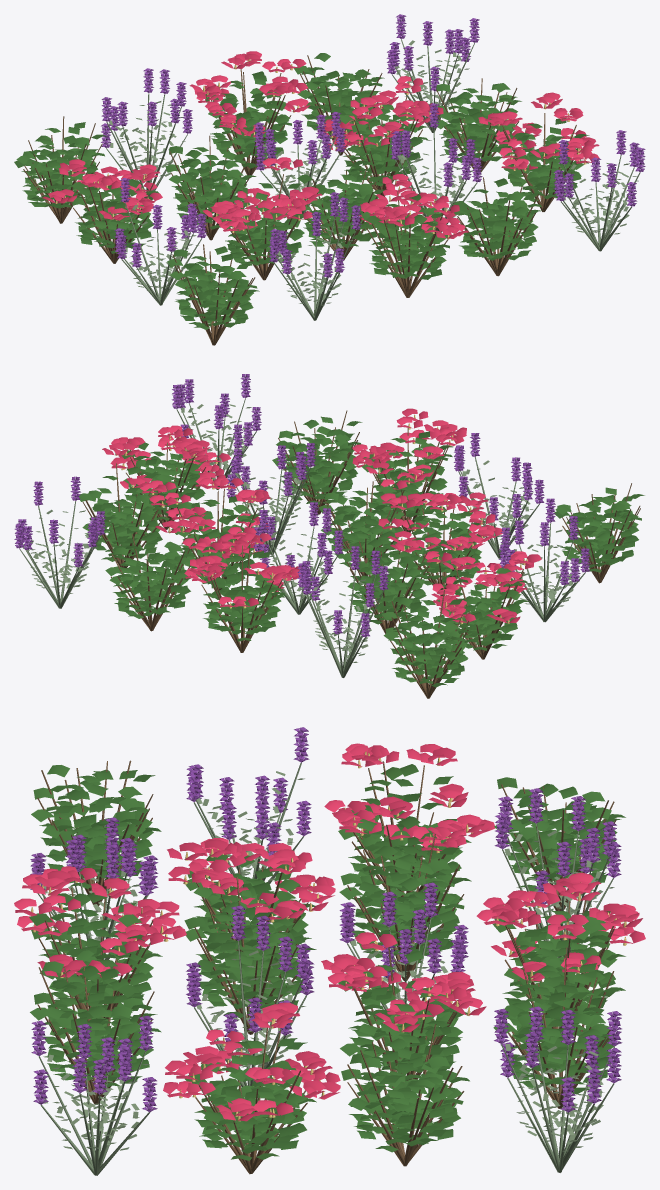
File: PlantBedLOD1.fbx
3 views of the same model, one above another, from view 1: azimuth 30°, elevation 25°; view 2: azimuth 150°, elevation 25°; view 3: azimuth 270°, elevation 25° (orthographic). The views are drawn at different scales.
Parts seen in each view (by area): view 1: PlantBed LOD1; view 2: PlantBed LOD1; view 3: PlantBed LOD1.
Part boxes in pixels (x1,y1,x2,y2): PlantBed LOD1: (14, 14, 645, 345); PlantBed LOD1: (14, 374, 644, 698); PlantBed LOD1: (14, 727, 645, 1175).
Size of the model in its own units: 401 by 94.53 by 323.
